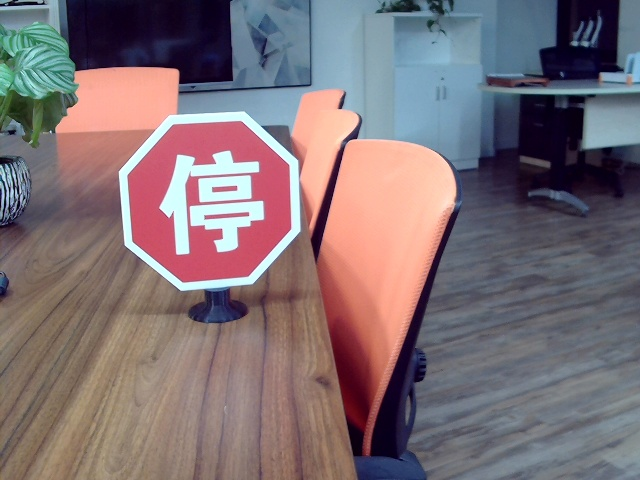stop: (154, 149, 267, 252)
